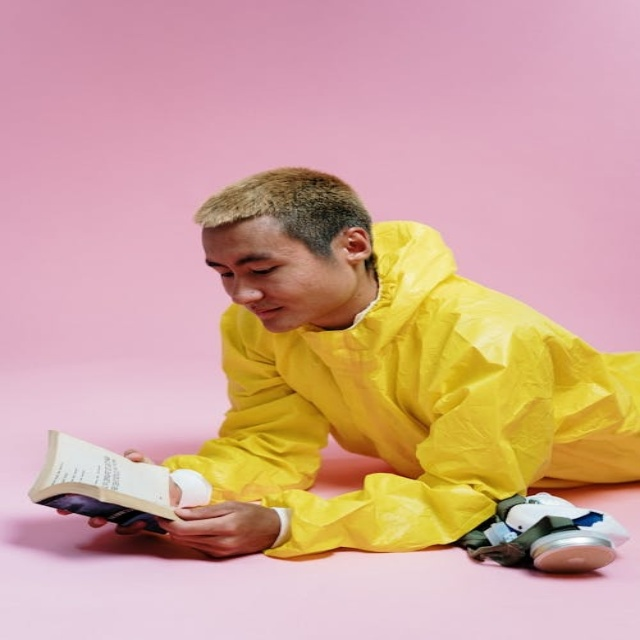Sin_gafas: (207, 244, 287, 282)
Sin_guantes: (148, 500, 286, 558)
Sin_mascara: (242, 302, 301, 330)
